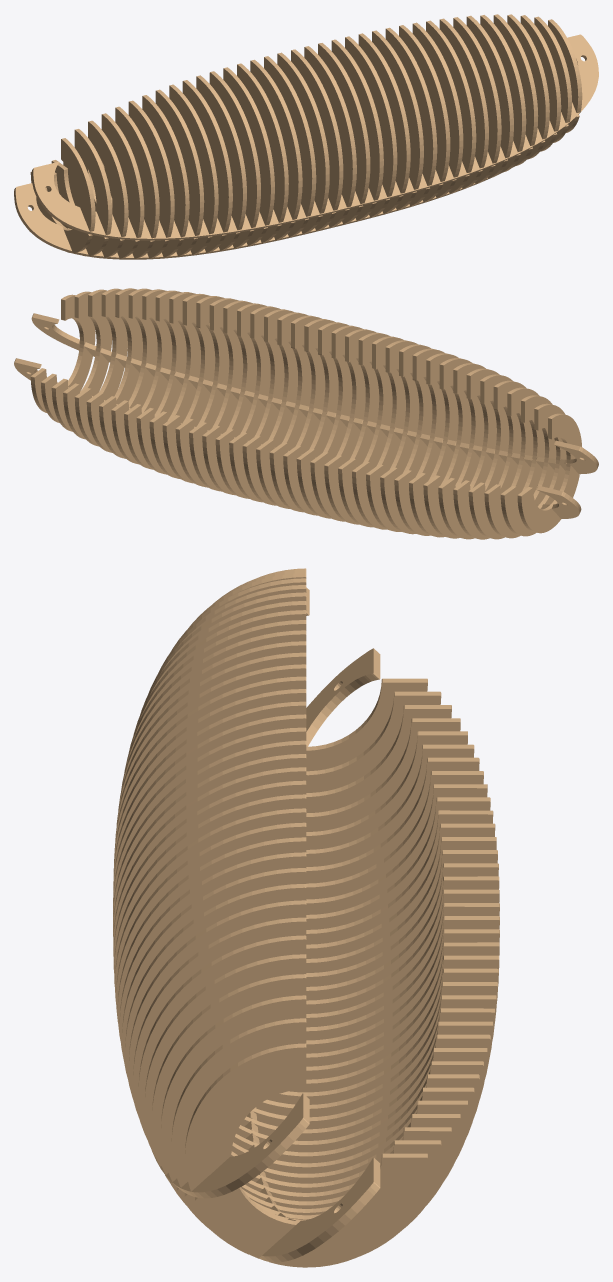
Rendered from samla.glb.
3 renders of one model, top to bottom at view 1: azimuth 30°, elevation 25°; view 2: azimuth 150°, elevation 25°; view 3: azimuth 270°, elevation 25°, orthographic. The views are drawn at different scales.
Parts seen in each view (by area): view 1: slicer-belgstemning; view 2: slicer-belgstemning; view 3: slicer-belgstemning.
Boxes of the visible parts, x1,y1,x2,y2 form: slicer-belgstemning: (14,14,598,259); slicer-belgstemning: (14,288,598,539); slicer-belgstemning: (113,568,499,1267).
Size of the model in its own units: 0.4135 by 0.1239 by 0.124.
